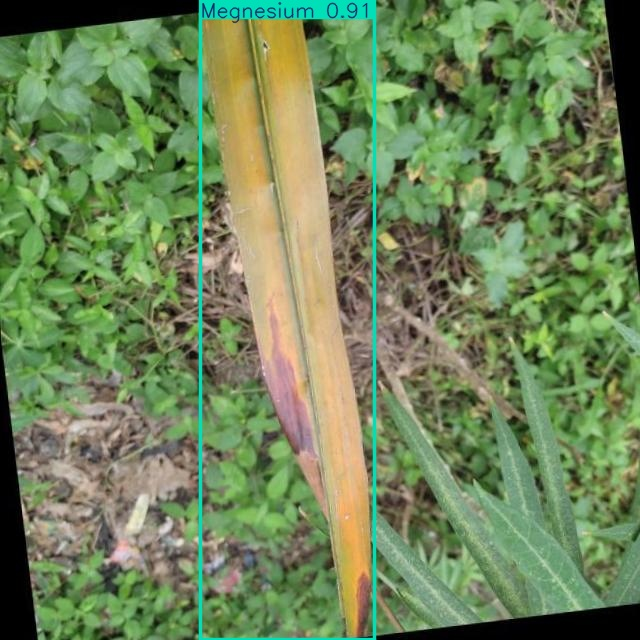Megnesium: (200, 1, 374, 639)
